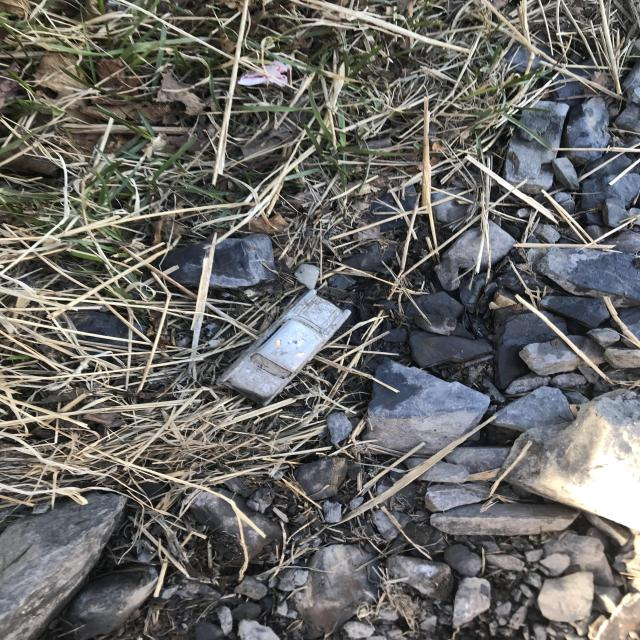litter: (219, 289, 352, 407), (237, 61, 292, 87)
